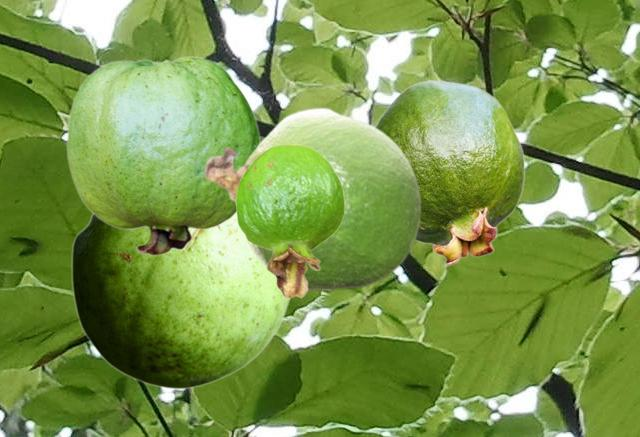guava: (203, 106, 422, 291), (66, 56, 260, 255), (71, 214, 292, 388), (375, 80, 524, 265), (235, 143, 344, 298)
